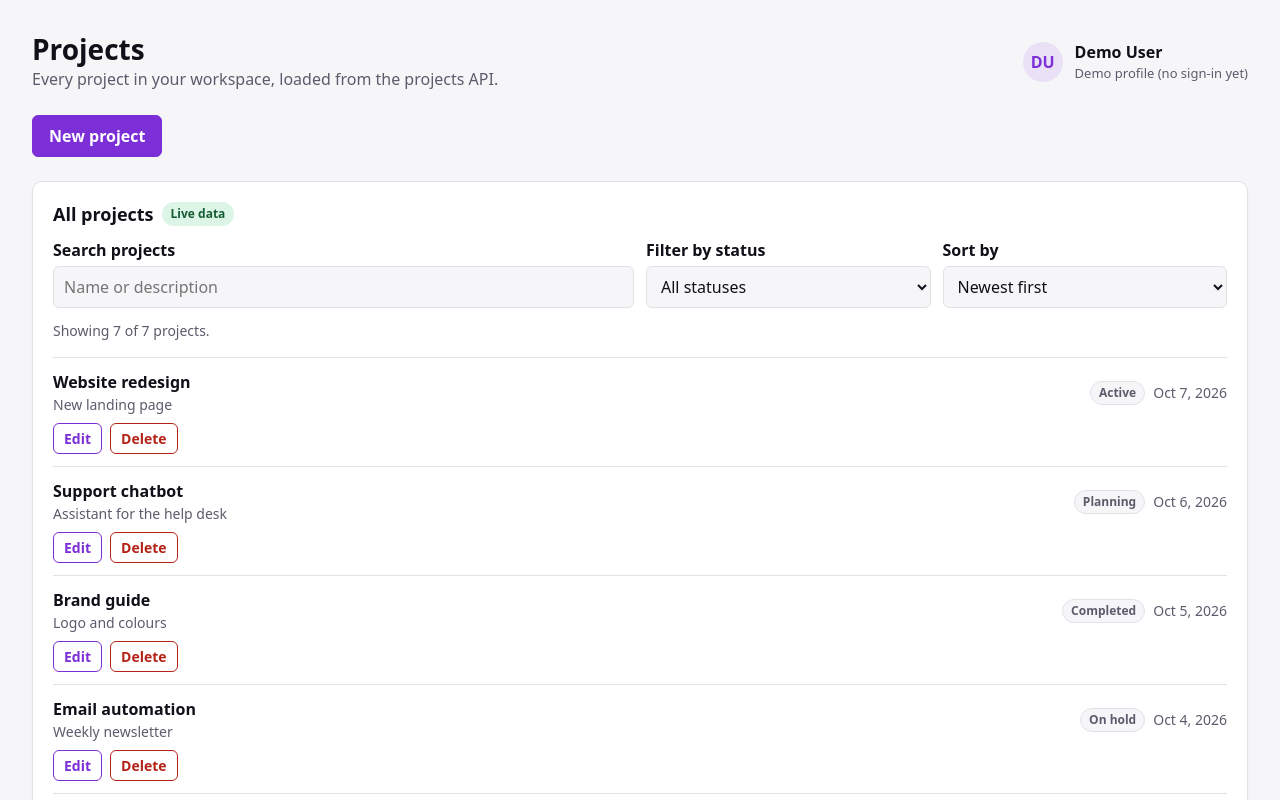
it: Projects page: list, search, filter, sort › searches by name, ignoring case
Type "WEBSITE" into the search field labelled "Search projects" at (344, 287), box left=53, top=266, right=634, bottom=308
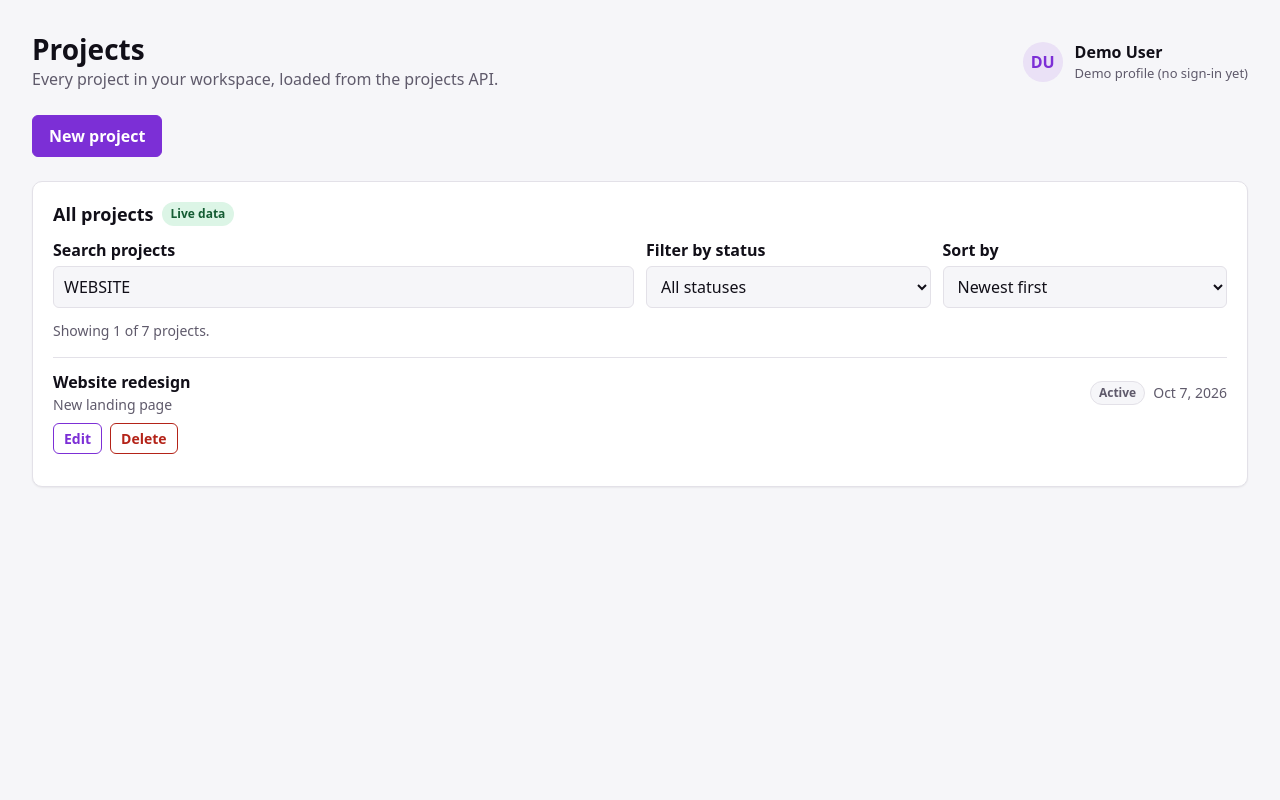
Now the text "Showing 1 of 7 projects." is shown, box left=53, top=321, right=210, bottom=340
